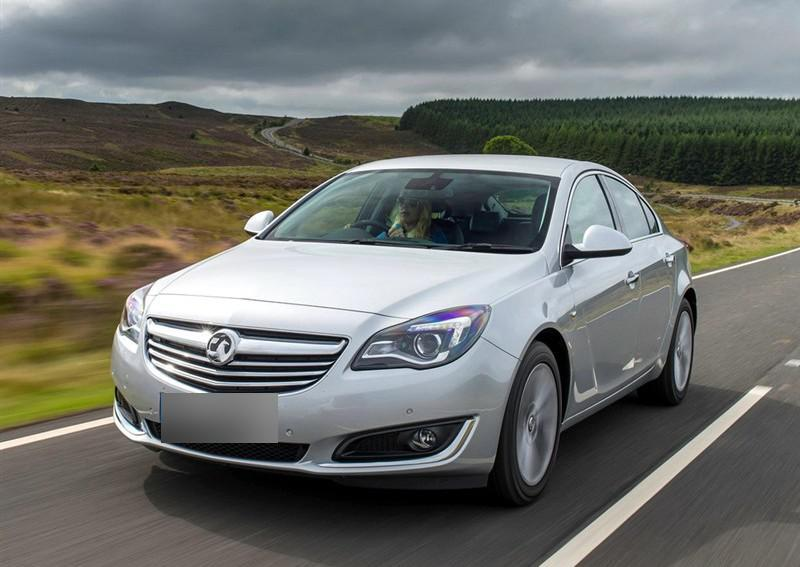Wagon: (108, 154, 697, 508)
